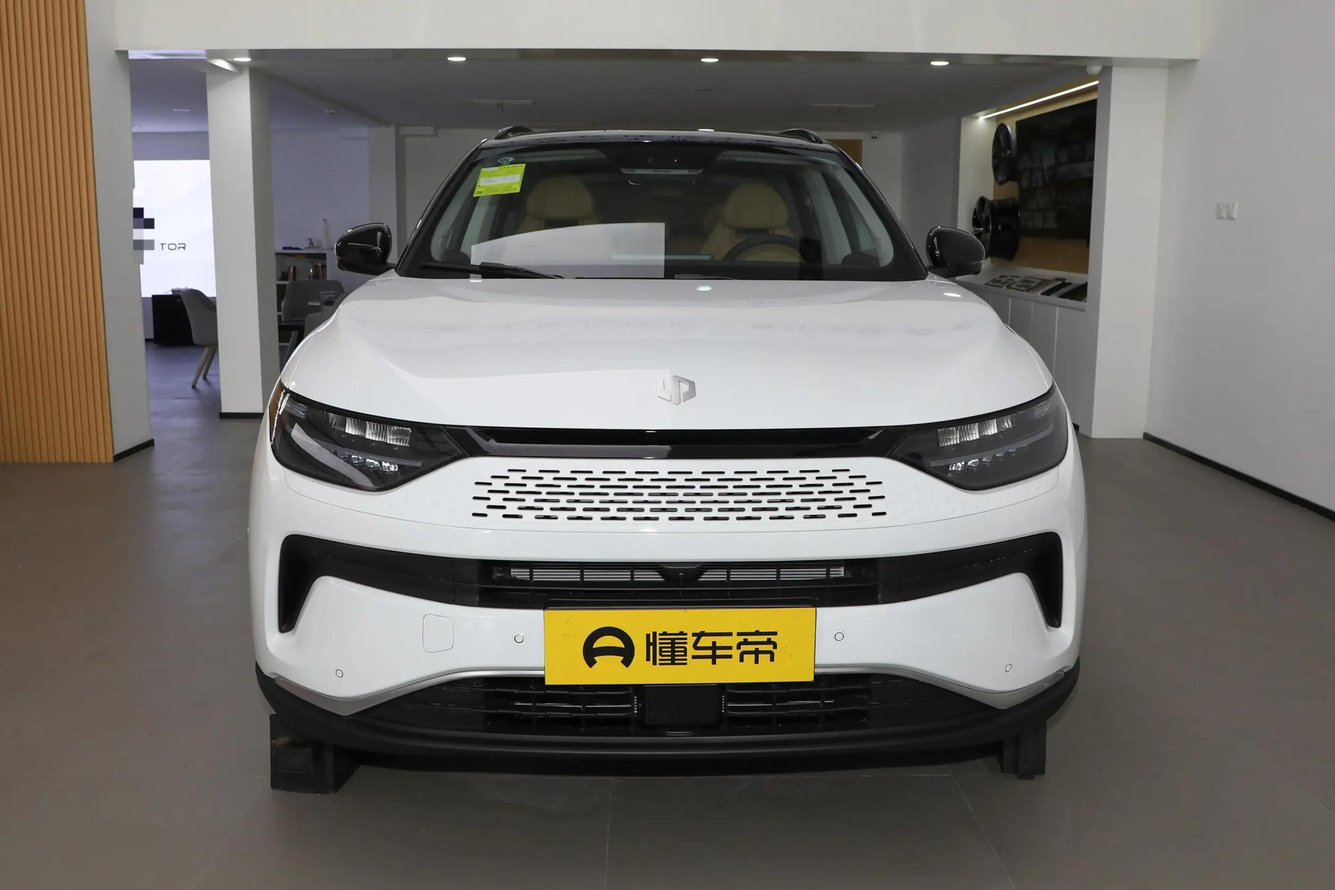LEAPMOTOR: (656, 374, 697, 405)
